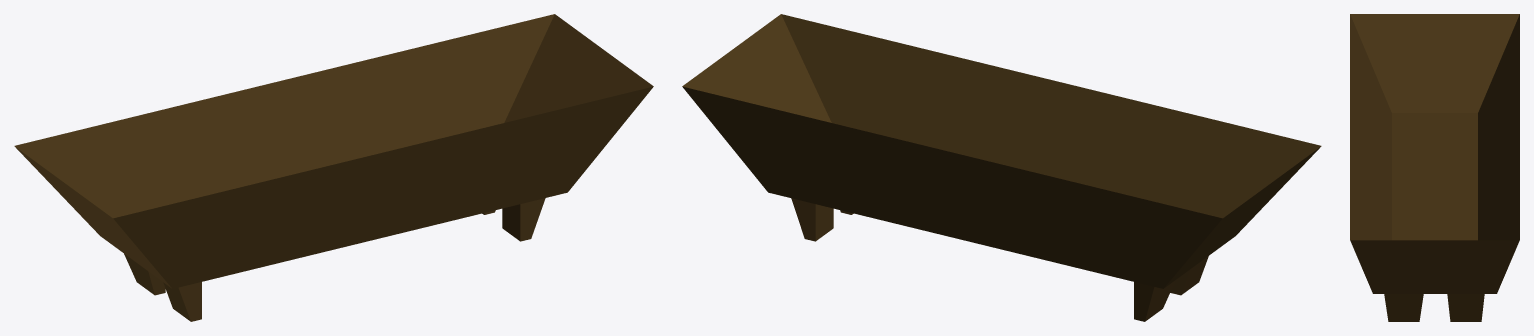
The model's file is drinker_empty.fbx.
3 renders of one model, left to right at view 1: azimuth 30°, elevation 25°; view 2: azimuth 150°, elevation 25°; view 3: azimuth 270°, elevation 25°, orthographic. The views are drawn at different scales.
Parts seen in each view (by area): view 1: drinker_empty; view 2: drinker_empty; view 3: drinker_empty.
Part boxes in pixels (x1,y1,x2,y2): drinker_empty: [14, 14, 653, 321]; drinker_empty: [682, 14, 1321, 321]; drinker_empty: [1350, 14, 1519, 321].
Size of the model in its own units: 273 by 69.72 by 86.67.
